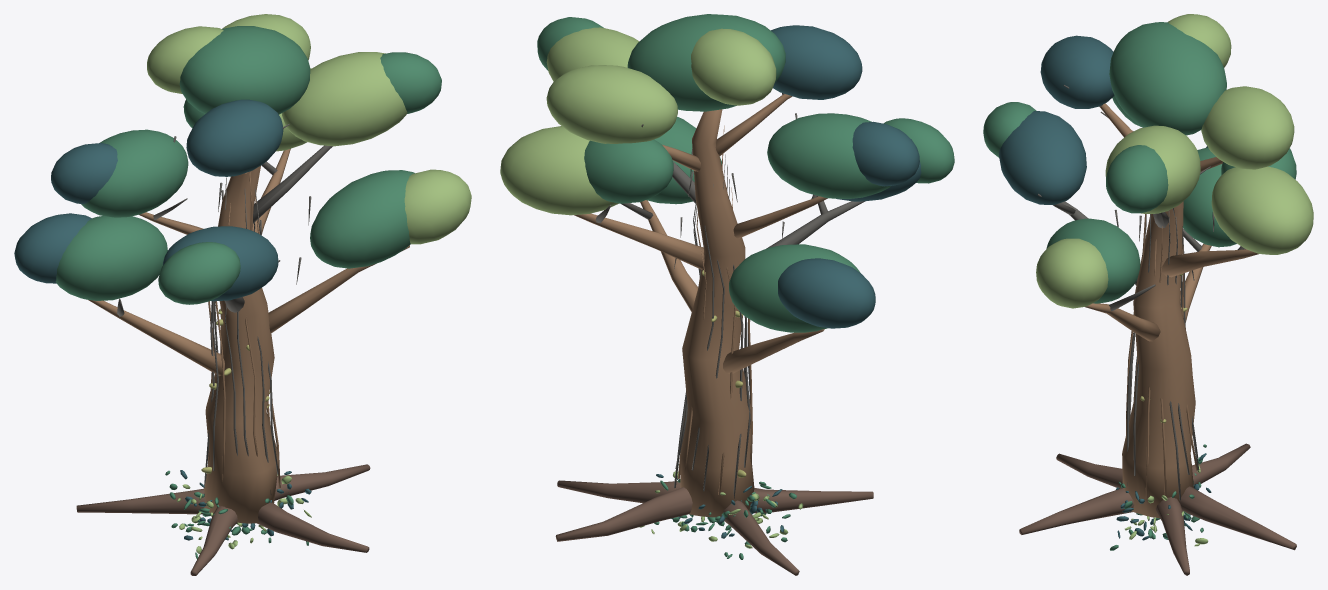
File: MYB_PremiumTreePolyHaven.fbx
3 renders of one model, left to right at view 1: azimuth 30°, elevation 25°; view 2: azimuth 150°, elevation 25°; view 3: azimuth 270°, elevation 25°, orthographic. The views are drawn at different scales.
Visible parts, largest first — view 1: MYB_PremiumNonLowPolyTree_LOD1_foliage, MYB_PremiumNonLowPolyTree_LOD1_wood; view 2: MYB_PremiumNonLowPolyTree_LOD1_foliage, MYB_PremiumNonLowPolyTree_LOD1_wood; view 3: MYB_PremiumNonLowPolyTree_LOD1_foliage, MYB_PremiumNonLowPolyTree_LOD1_wood.
Part boxes in pixels (bbox=[...]): MYB_PremiumNonLowPolyTree_LOD1_foliage: bbox=[14, 14, 471, 559]; MYB_PremiumNonLowPolyTree_LOD1_wood: bbox=[76, 124, 409, 575]; MYB_PremiumNonLowPolyTree_LOD1_foliage: bbox=[500, 14, 954, 559]; MYB_PremiumNonLowPolyTree_LOD1_wood: bbox=[555, 93, 873, 575]; MYB_PremiumNonLowPolyTree_LOD1_foliage: bbox=[983, 14, 1313, 550]; MYB_PremiumNonLowPolyTree_LOD1_wood: bbox=[1019, 85, 1296, 575].
Size of the model in its own units: 453 by 583 by 350.
